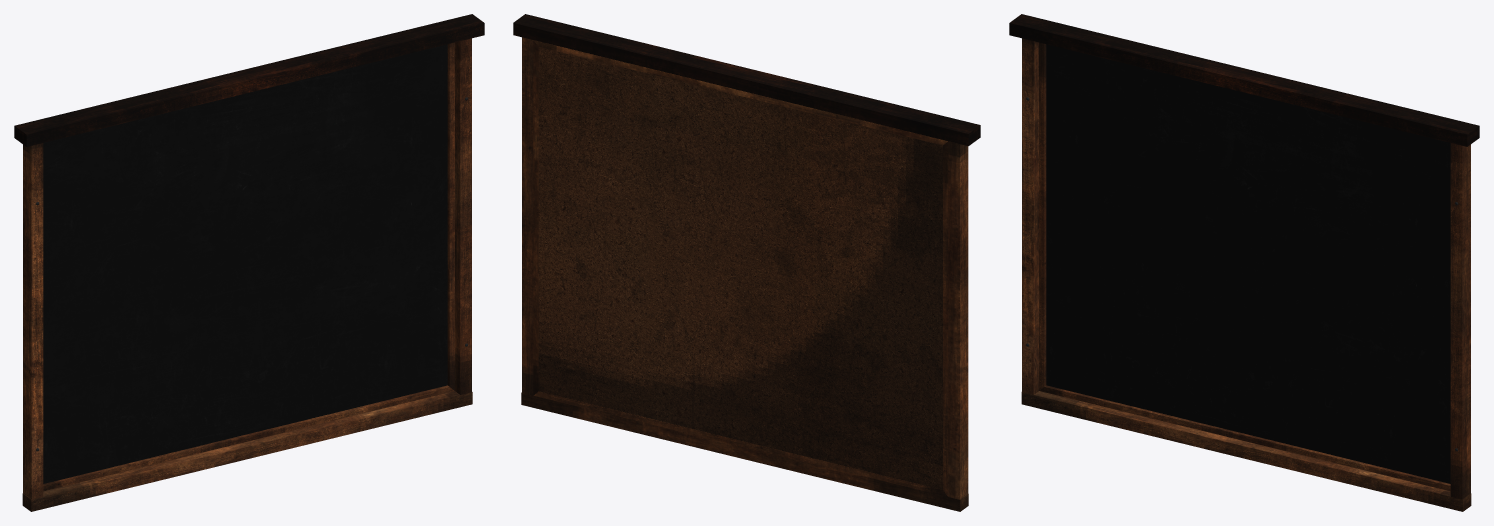
File: Menu_Chalkboard_Wall.obj
The picture shows the model from 3 angles, left to right: view 1: azimuth 30°, elevation 25°; view 2: azimuth 150°, elevation 25°; view 3: azimuth 330°, elevation 25°; orthographic projection.
Visible parts, largest first — view 1: Front_Board, Menu_Chalkboard_Wall_Geometry_001; view 2: Back_Board, Menu_Chalkboard_Wall_Geometry_001; view 3: Front_Board, Menu_Chalkboard_Wall_Geometry_001.
Part boxes in pixels (box(x1,y1,x2,y2)): Front_Board: box(43, 44, 447, 483); Menu_Chalkboard_Wall_Geometry_001: box(14, 14, 484, 511); Back_Board: box(538, 47, 942, 489); Menu_Chalkboard_Wall_Geometry_001: box(513, 14, 980, 511); Front_Board: box(1046, 44, 1450, 483); Menu_Chalkboard_Wall_Geometry_001: box(1009, 14, 1479, 511).
Bounding box in the file's own units: 156 × 124 × 7.25.
Materials: 5 (3 with a texture image).
